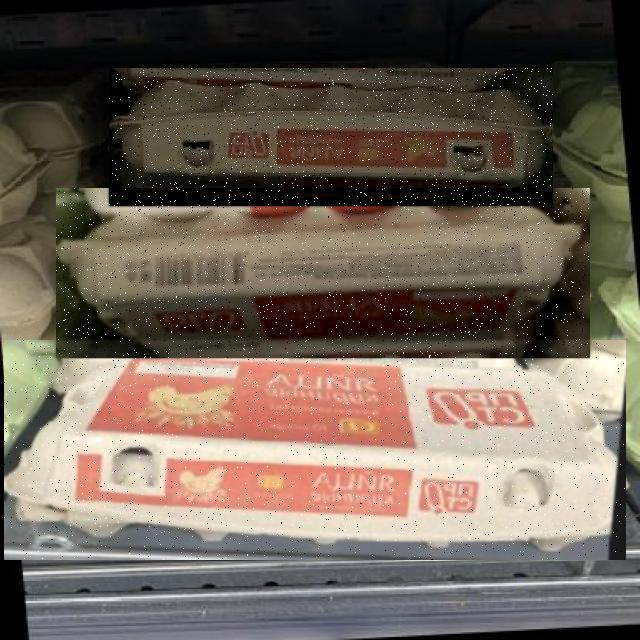Eggs: (5, 340, 627, 560), (56, 188, 590, 358), (109, 68, 553, 206)
